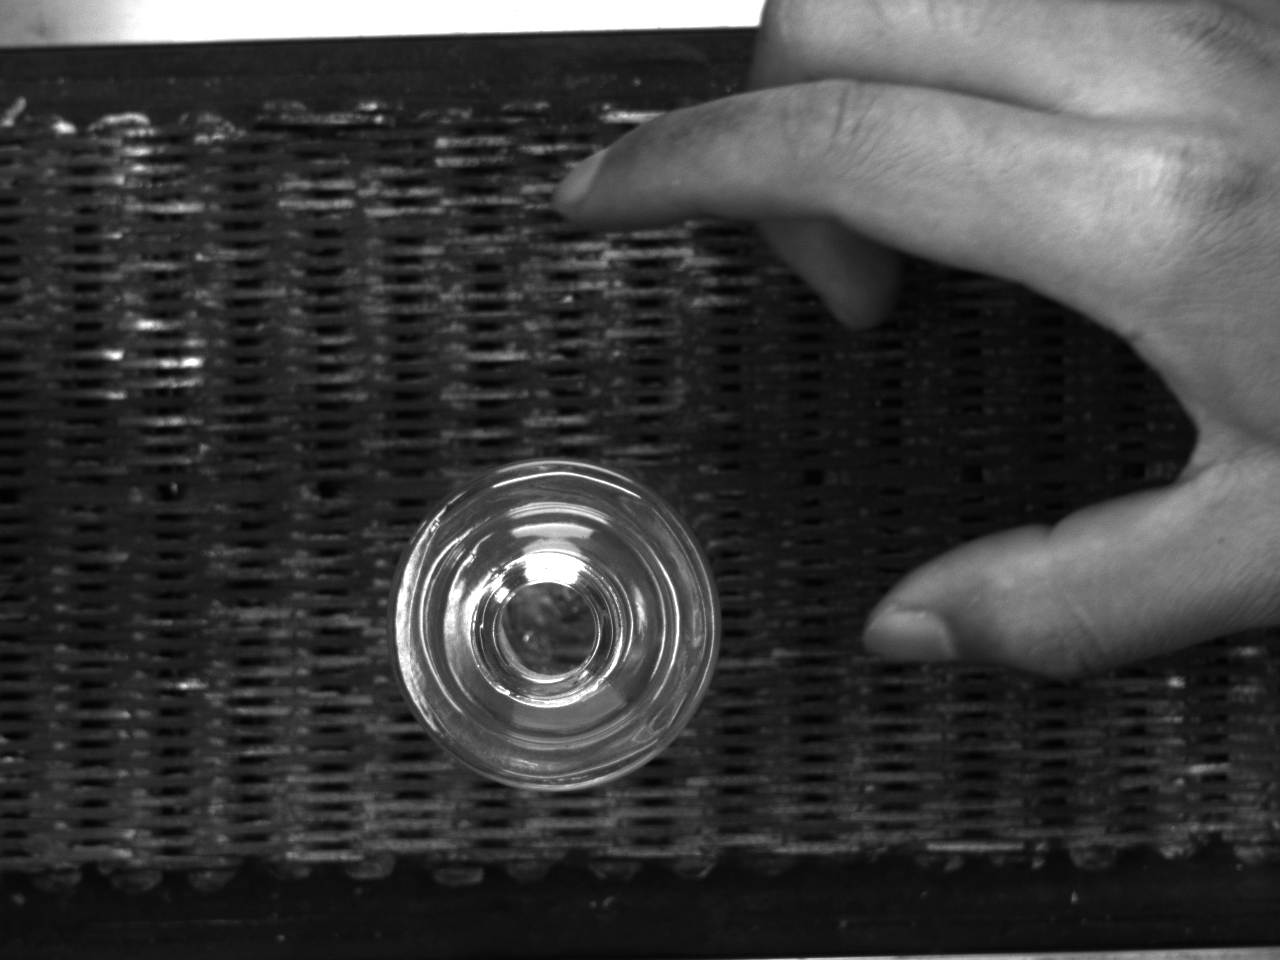bottleneck: (475, 551, 627, 710)
